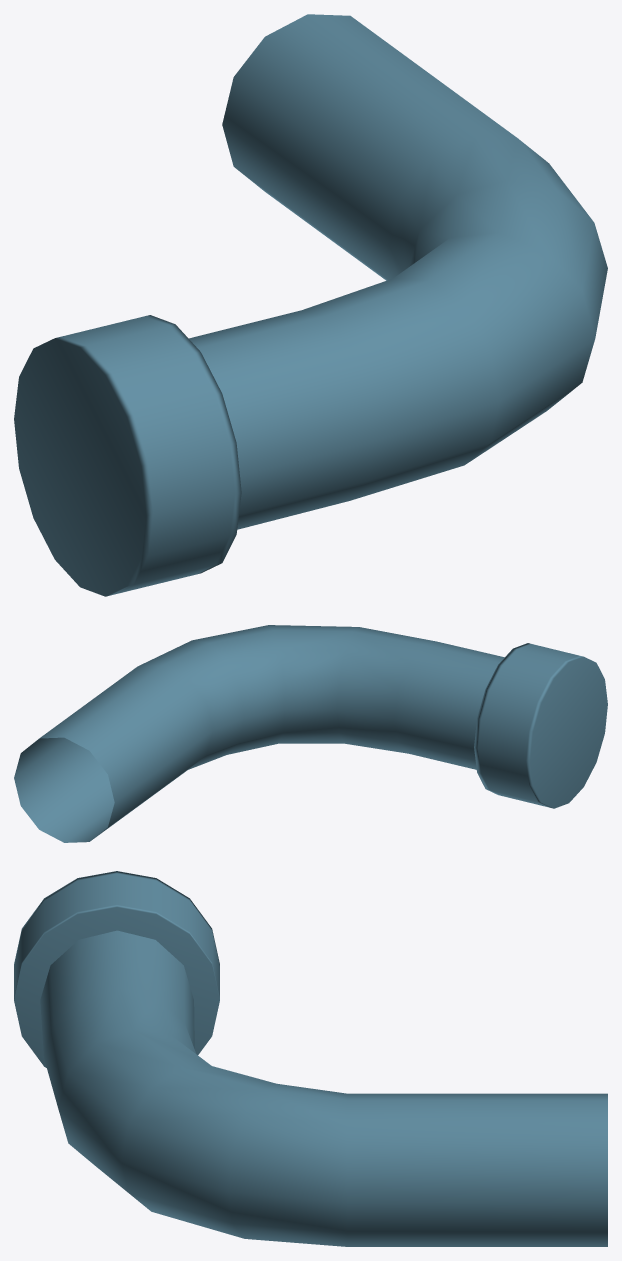
File: CurvePipe_01.fbx
3 views of the same model, one above another, from view 1: azimuth 30°, elevation 25°; view 2: azimuth 150°, elevation 25°; view 3: azimuth 270°, elevation 25° (orthographic). The views are drawn at different scales.
Parts seen in each view (by area): view 1: CurvePipe1; view 2: CurvePipe1; view 3: CurvePipe1.
Part boxes in pixels (x1=…): CurvePipe1: x1=14, y1=14, x2=607, y2=596; CurvePipe1: x1=14, y1=625, x2=607, y2=842; CurvePipe1: x1=14, y1=871, x2=607, y2=1246.
Bounding box in the file's own units: 117 × 42.75 × 123.
